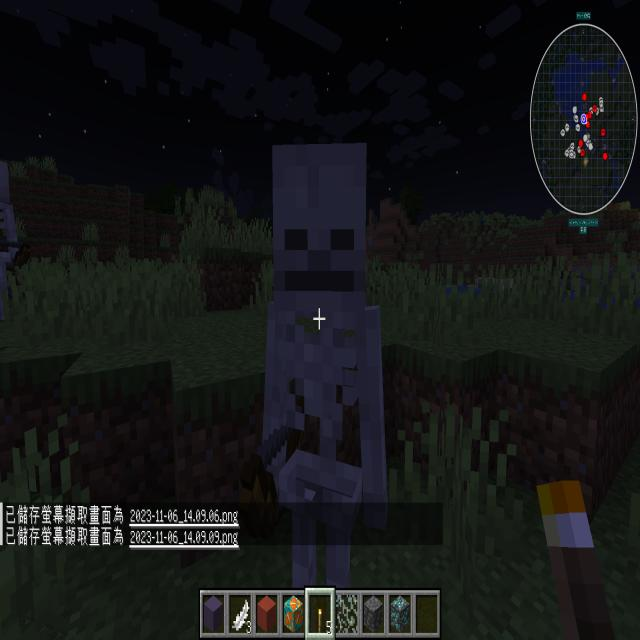Skeleton: (236, 124, 396, 586)
